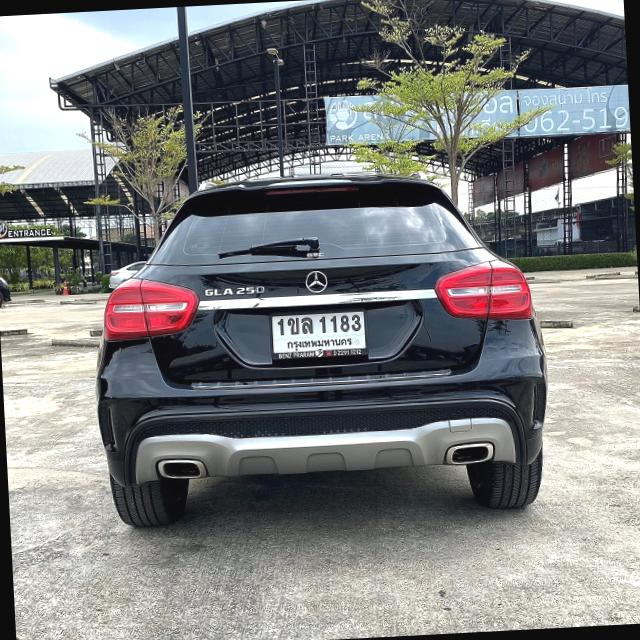license_plate: (268, 304, 369, 368)
